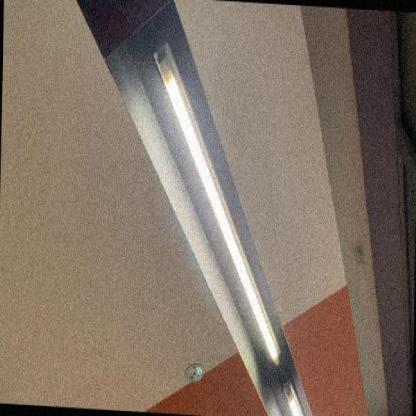light_on: (138, 23, 292, 370), (276, 384, 324, 415)
